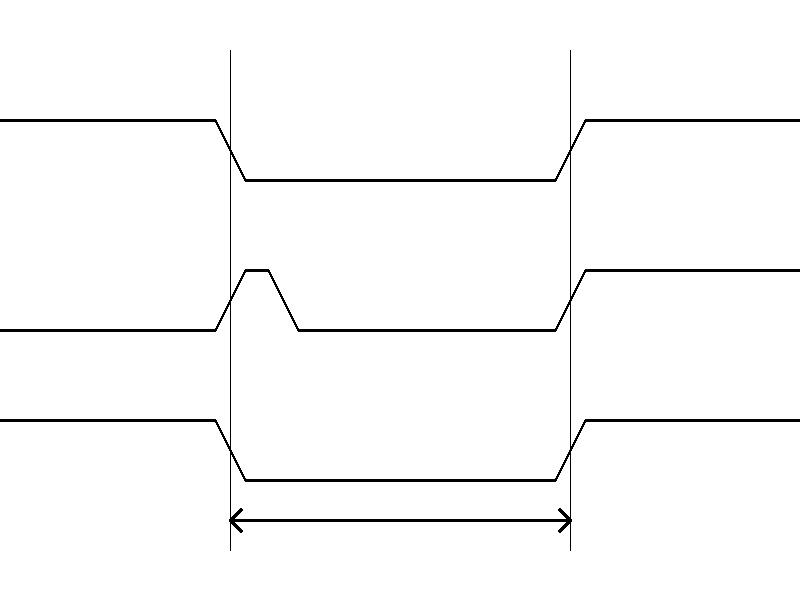double_arrow: (230, 505, 570, 535)
